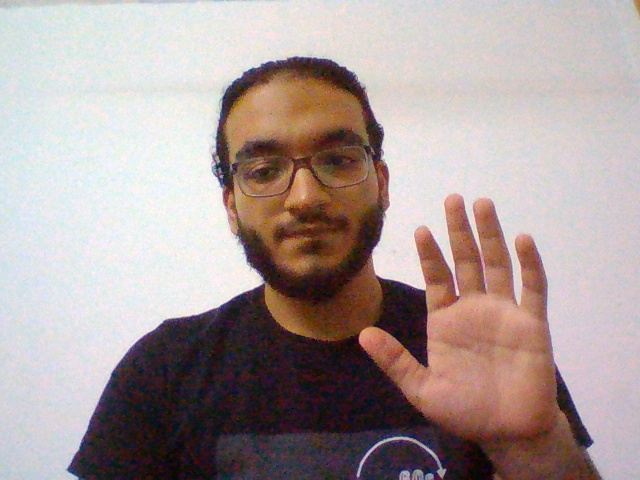Hello: (356, 192, 561, 443)
